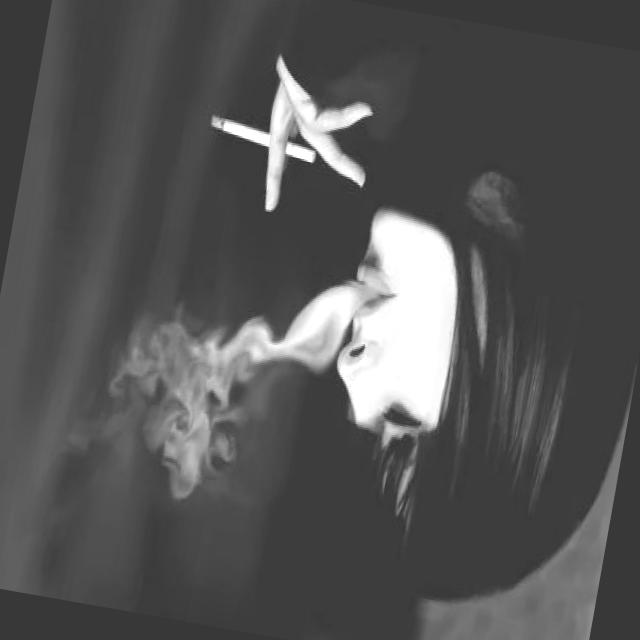smoke: (202, 107, 323, 167)
